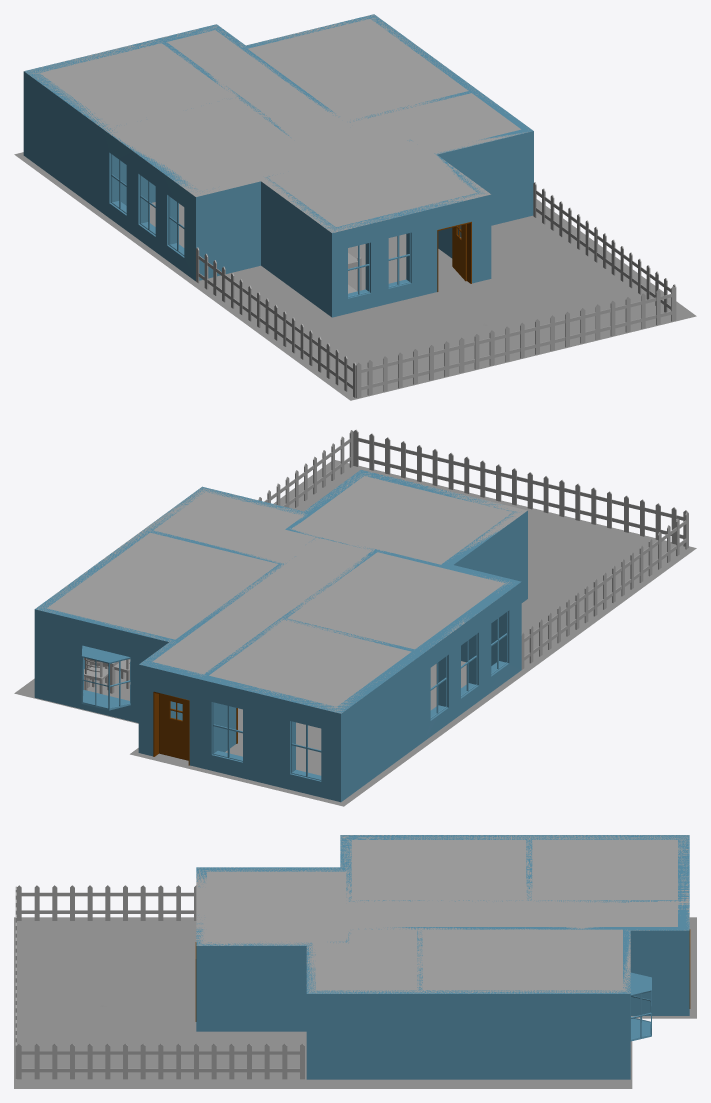
File: House3.fbx
The picture shows the model from 3 angles, top to bottom: view 1: azimuth 30°, elevation 25°; view 2: azimuth 150°, elevation 25°; view 3: azimuth 270°, elevation 25°; orthographic projection. The views are drawn at different scales.
Parts seen in each view (by area): view 1: Roof, House, Floor, Posts (×3), Beams (×3), BackDoor; view 2: Roof, House, Floor, Posts (×3), Beams (×2); view 3: Roof, House, Floor, Posts (×2), Beams (×2).
Part boxes in pixels (x1,y1,x2,y2): Roof: (24, 14, 529, 232); House: (23, 14, 533, 317); Floor: (14, 152, 696, 400); Posts (×3): (196, 182, 676, 398); Beams (×3): (198, 190, 671, 390); BackDoor: (452, 224, 466, 281); Roof: (36, 471, 527, 713); House: (34, 470, 527, 802); Floor: (14, 460, 696, 806); Posts (×3): (258, 429, 688, 669); Beams (×2): (358, 437, 686, 660); Roof: (196, 835, 689, 993); House: (195, 835, 690, 1079); Floor: (14, 917, 696, 1088); Posts (×2): (17, 885, 304, 1079); Beams (×2): (21, 892, 299, 1072).
Size of the model in its own units: 17.19 by 4.04 by 28.94.
3 materials, 1 textured.
